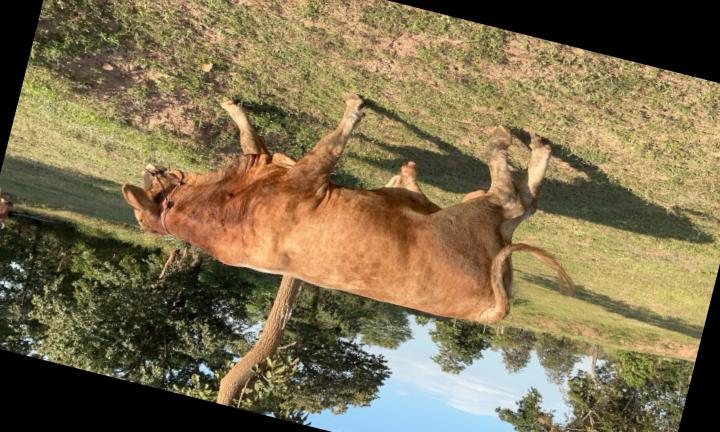Charolais: (122, 93, 572, 322)
